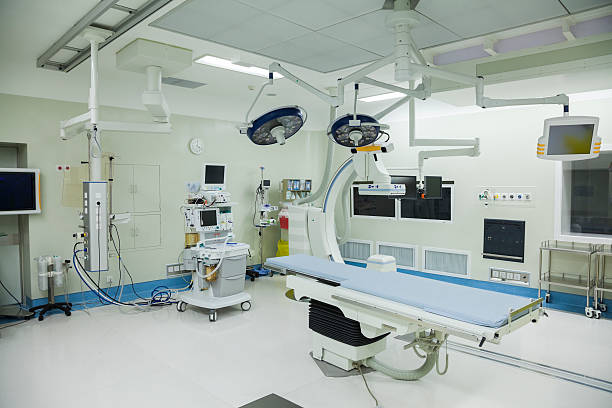bedside_monitor: (537, 113, 599, 162), (1, 166, 40, 214), (183, 202, 234, 232), (202, 163, 228, 186)
breathing_tube: (194, 236, 232, 278)
iv_pole: (257, 165, 269, 269)
medical_drawer: (215, 257, 253, 300)
operating_bed: (264, 254, 545, 381)
surgical_light: (240, 104, 307, 150), (326, 112, 389, 147)
syringe_pump: (255, 219, 277, 226)
utility_cart: (537, 239, 607, 320)
ventilator: (178, 189, 248, 298)
